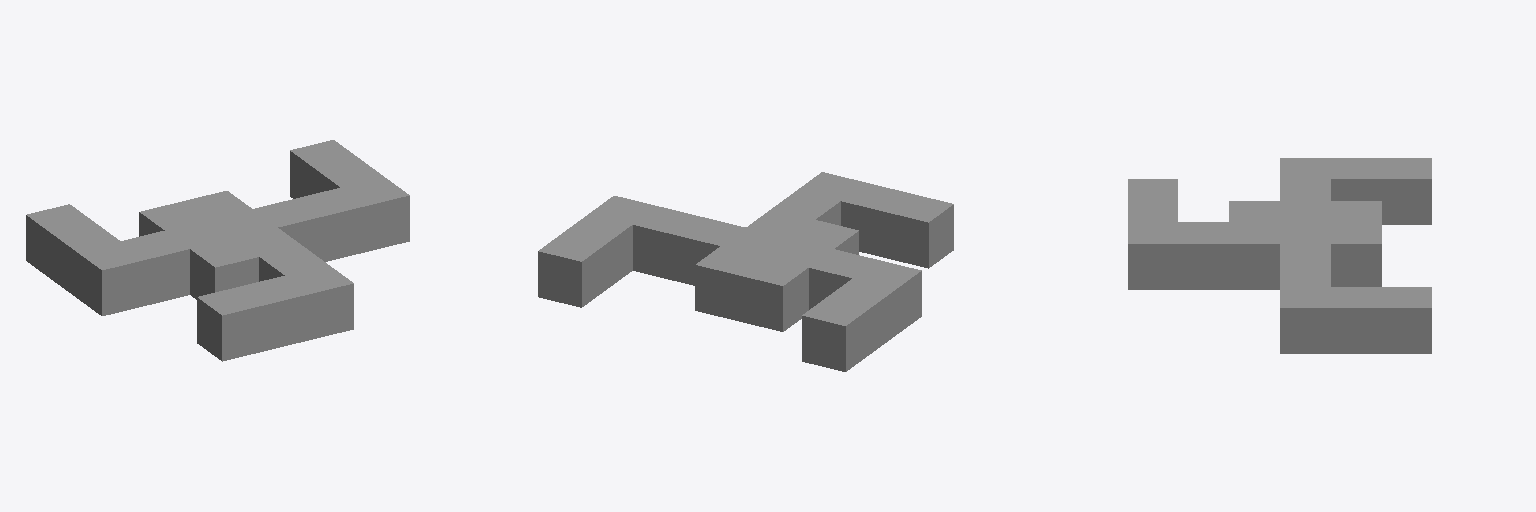
File: test_level.obj
3 renders of one model, left to right at view 1: azimuth 30°, elevation 25°; view 2: azimuth 150°, elevation 25°; view 3: azimuth 270°, elevation 25°, orthographic.
Visible parts, largest first — view 1: Cube; view 2: Cube; view 3: Cube.
Part boxes in pixels (x1,y1,x2,y2): Cube: (26, 140, 409, 361); Cube: (538, 172, 953, 371); Cube: (1128, 158, 1431, 353).
Size of the model in its own units: 14 by 2 by 12.